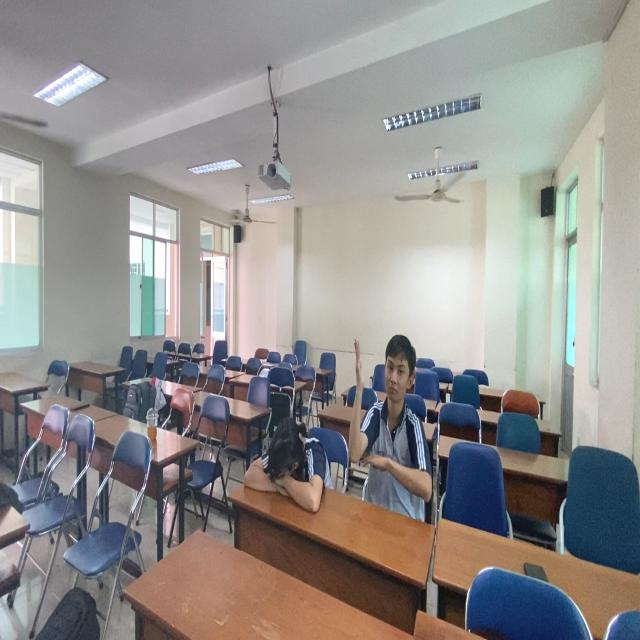raise_hand: (349, 332, 435, 511)
sleep: (246, 417, 328, 519)
